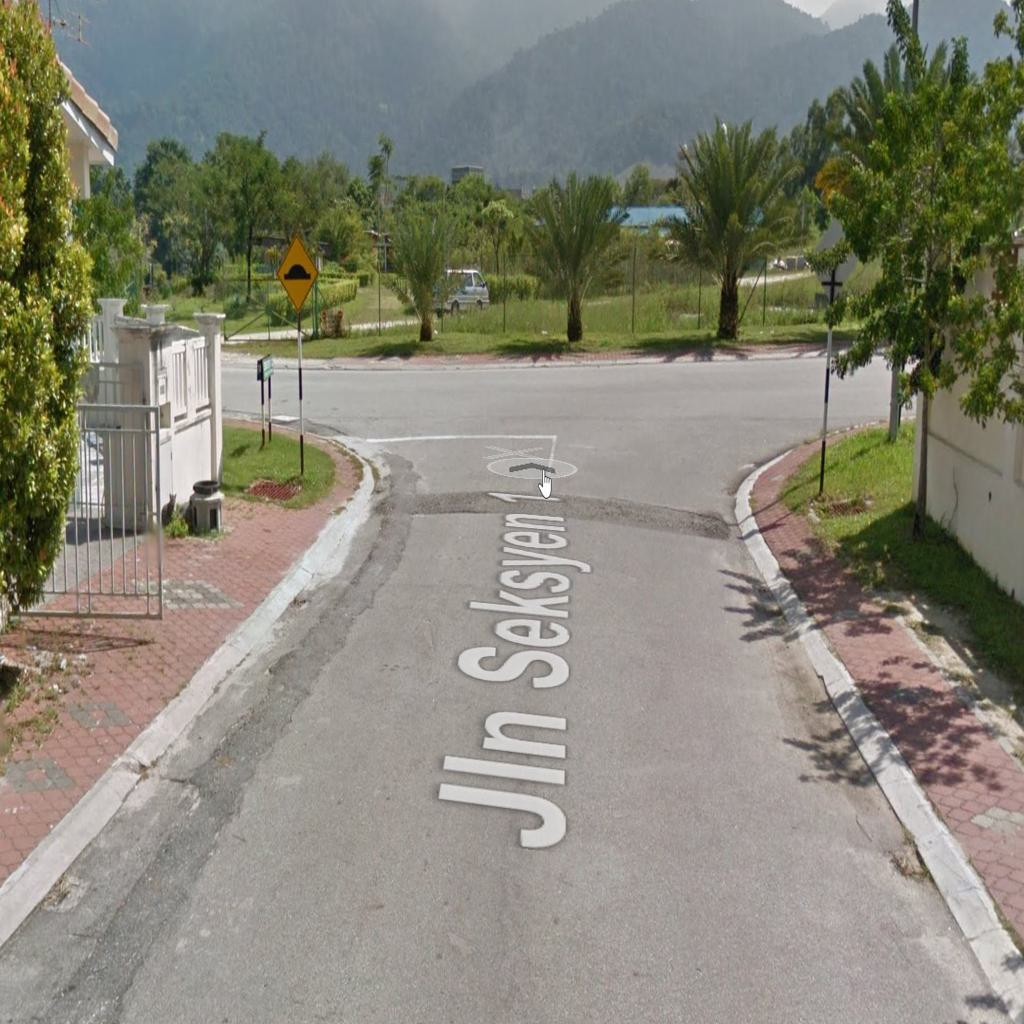Junction: (705, 344, 920, 513), (225, 345, 406, 493)
